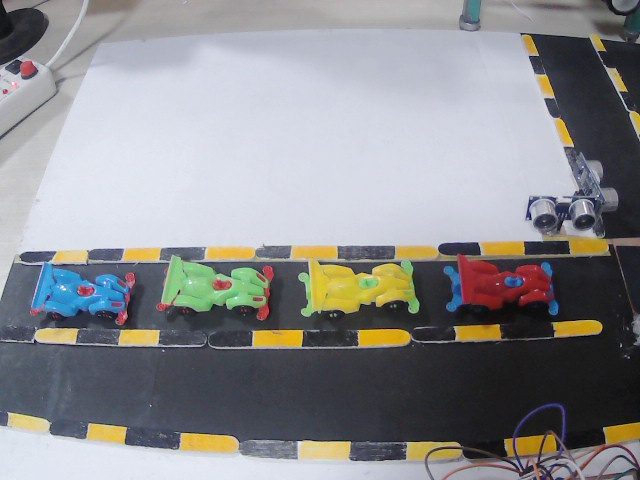car: (154, 256, 275, 319), (445, 256, 573, 311), (36, 256, 134, 325), (308, 258, 422, 310)
uno_breadboard: (530, 188, 611, 226), (571, 144, 615, 212), (516, 464, 579, 480)
